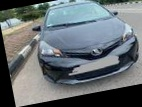car: (27, 0, 142, 93)
